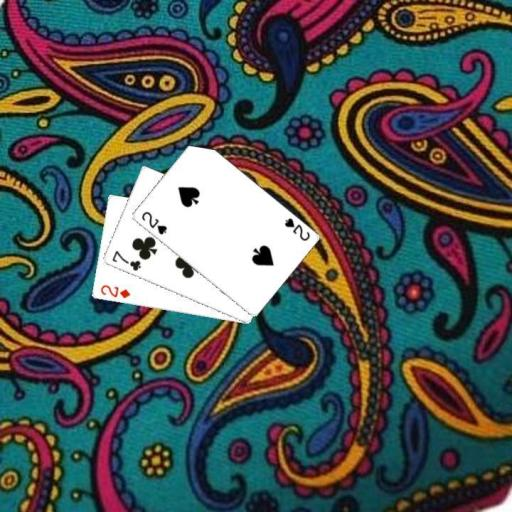2D: (98, 282, 132, 300)
2S: (138, 208, 168, 236), (281, 215, 311, 242)
7C: (109, 248, 142, 273)
